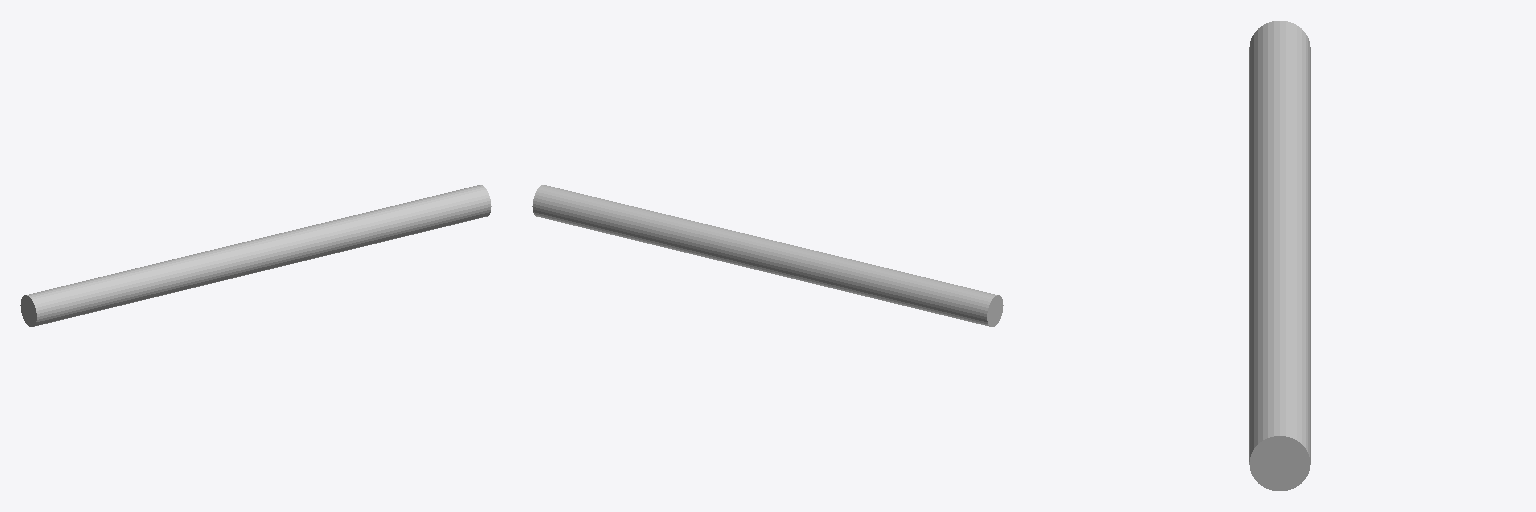
robot.urdf — rod:
<?xml version="1.0" encoding="utf-8"?>
<robot name="rod">
  <link name="rod_Link">
    <inertial>
      <origin xyz="0 0 0" rpy="0 0 0"/>
      <mass value="0.8"/>
      <inertia ixx="0.001" iyy="0.001" izz="0.0005" ixy="0" ixz="0" iyz="0"/>
    </inertial>
    <visual>
      <origin xyz="0 0 0" rpy="0 -1.57 0"/>
      <geometry><cylinder length="0.8" radius="0.025"/></geometry>
      <material name="gray"><color rgba="0.8 0.8 0.8 1"/></material>
    </visual>
    <collision>
      <origin xyz="0 0 0" rpy="0 -1.57 0"/>
      <geometry><cylinder length="0.8" radius="0.025"/></geometry>
    </collision>
  </link>
</robot>

--- Facts derived from the render (not from the file) ---
Views: 3 orthographic renders of the robot side by side, from view 1: azimuth 30°, elevation 25°; view 2: azimuth 150°, elevation 25°; view 3: azimuth 270°, elevation 25°.
Robot: rod — 1 links, 0 joints (none); root link rod_Link; default pose: every joint at zero.
Links seen in each view (by area): view 1: rod_Link; view 2: rod_Link; view 3: rod_Link.
Link boxes in pixels (x1=…): rod_Link: x1=20, y1=185, x2=491, y2=326; rod_Link: x1=532, y1=185, x2=1003, y2=326; rod_Link: x1=1249, y1=21, x2=1310, y2=490.
Bounding box of the posed robot: 0.8 × 0.05 × 0.0506 m (x, y, z).
Geometry: primitives only (box / cylinder / sphere), no mesh files.
